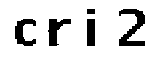2: (113, 8, 149, 51)
c: (13, 17, 39, 49)
i: (82, 4, 102, 53)
r: (46, 18, 74, 49)
